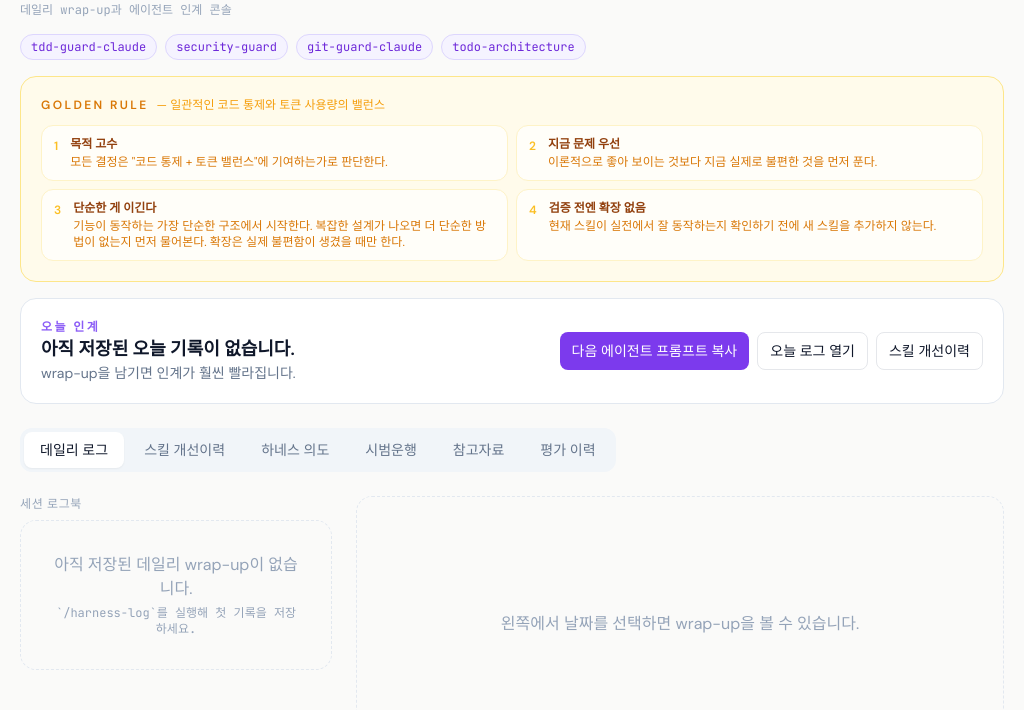
Test: HarnessLabPage › REJECT가 있는 스킬은 비율을 표시하고 REJECT가 없는 스킬은 0%를 표시한다
Click the button "시범운행" at {"x": 391, "y": 450}, box [349,432,433,468]
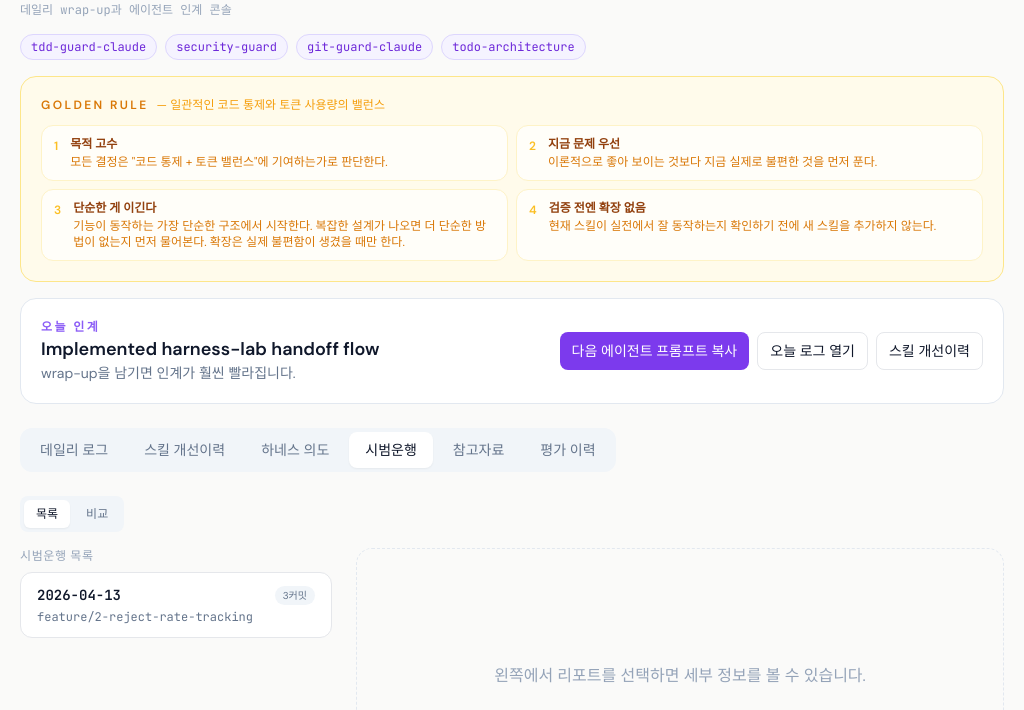
Result: the text "2026-04-13" is shown
Click the text "2026-04-13" at {"x": 79, "y": 595}, box [37,585,121,605]
(page scrolled)
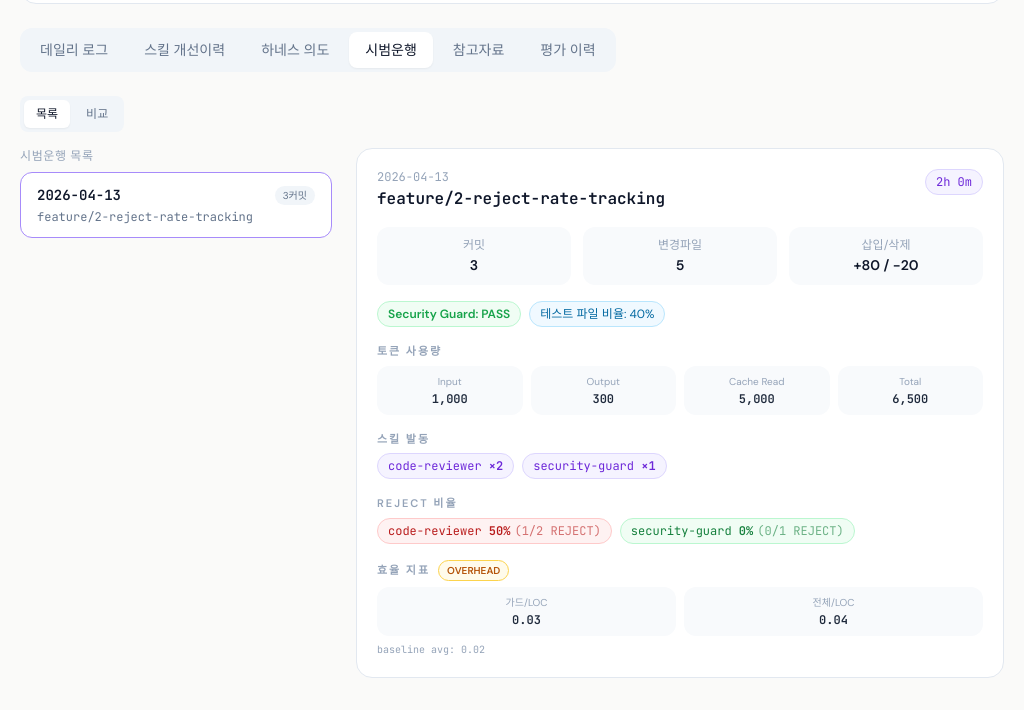
Result: the text "REJECT 비율" is shown at [377,496,458,510]
Result: the text "50%" is shown at [489,522,510,538]
Result: the text "0%" is shown at [739,522,753,538]
